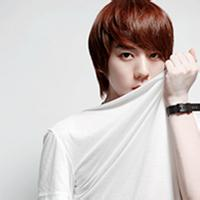face: (108, 37, 164, 102)
